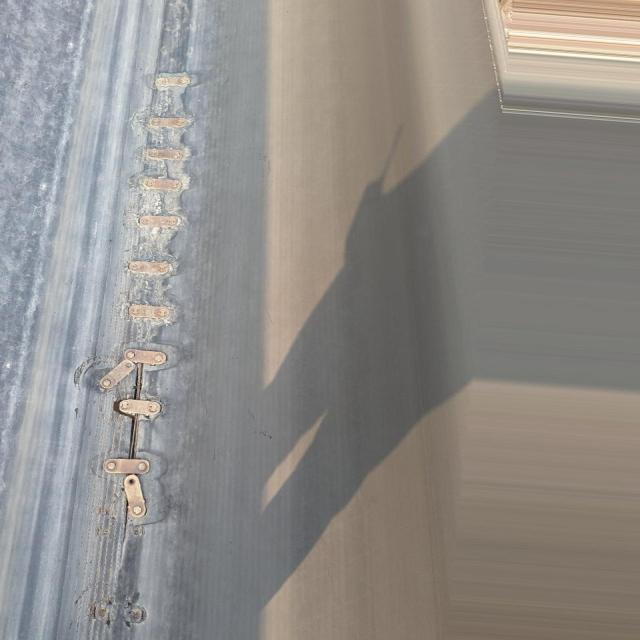patch work: (52, 55, 219, 640)
